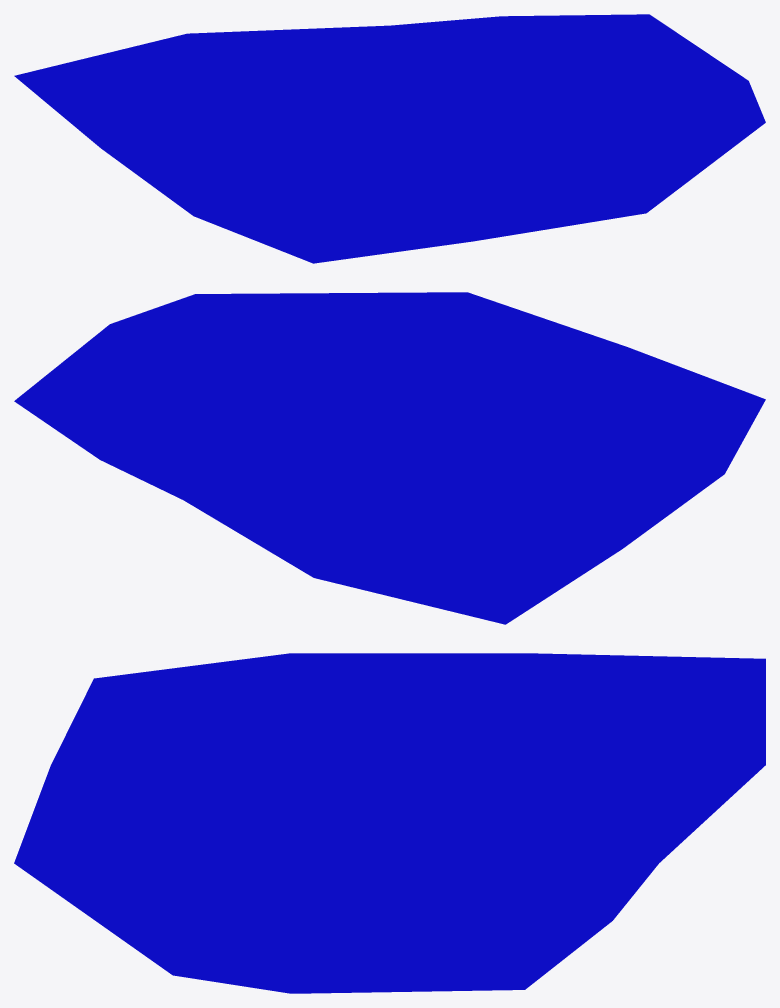
3 renders of one model, top to bottom at view 1: azimuth 30°, elevation 25°; view 2: azimuth 150°, elevation 25°; view 3: azimuth 270°, elevation 25°, orthographic. The views are drawn at different scales.
Parts seen in each view (by area): view 1: G:\FFXIV-MapTools\exports\m5f2\bg\ex4\02_mid_m5\fld\m5f2\bgp; view 2: G:\FFXIV-MapTools\exports\m5f2\bg\ex4\02_mid_m5\fld\m5f2\bgp; view 3: G:\FFXIV-MapTools\exports\m5f2\bg\ex4\02_mid_m5\fld\m5f2\bgp.
Part boxes in pixels (x1=…): G:\FFXIV-MapTools\exports\m5f2\bg\ex4\02_mid_m5\fld\m5f2\bgp: x1=14, y1=14, x2=765, y2=263; G:\FFXIV-MapTools\exports\m5f2\bg\ex4\02_mid_m5\fld\m5f2\bgp: x1=14, y1=292, x2=765, y2=624; G:\FFXIV-MapTools\exports\m5f2\bg\ex4\02_mid_m5\fld\m5f2\bgp: x1=14, y1=653, x2=765, y2=993.
Size of the model in its own units: 85.25 by 0 by 79.53.
